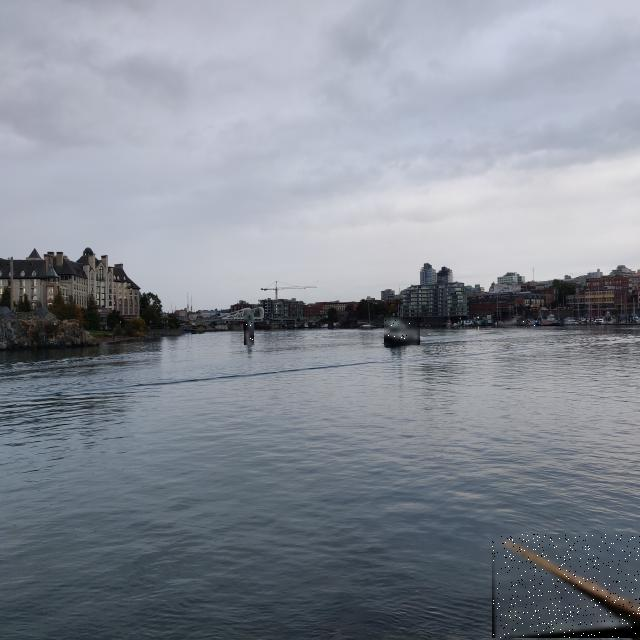boat: (384, 317, 420, 345), (503, 316, 526, 326)
debris: (492, 534, 640, 638)
mark: (244, 310, 254, 345)
skiff: (534, 323, 560, 326)
